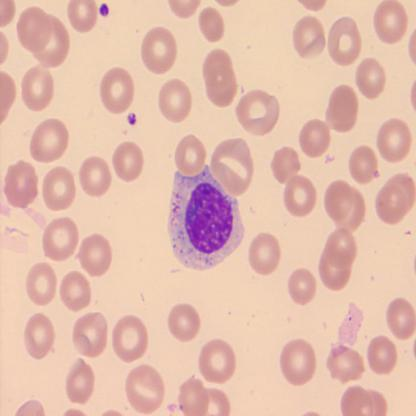Myelocyte: (168, 163, 244, 270)
